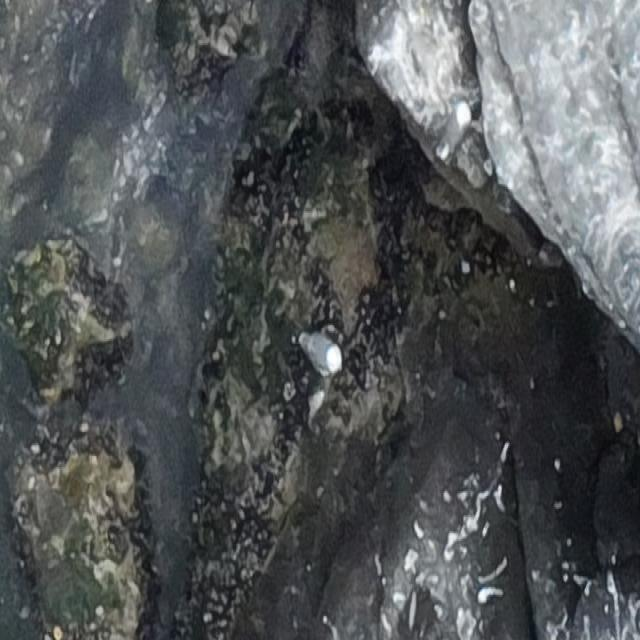umineko: (439, 100, 473, 158), (298, 332, 342, 376)
